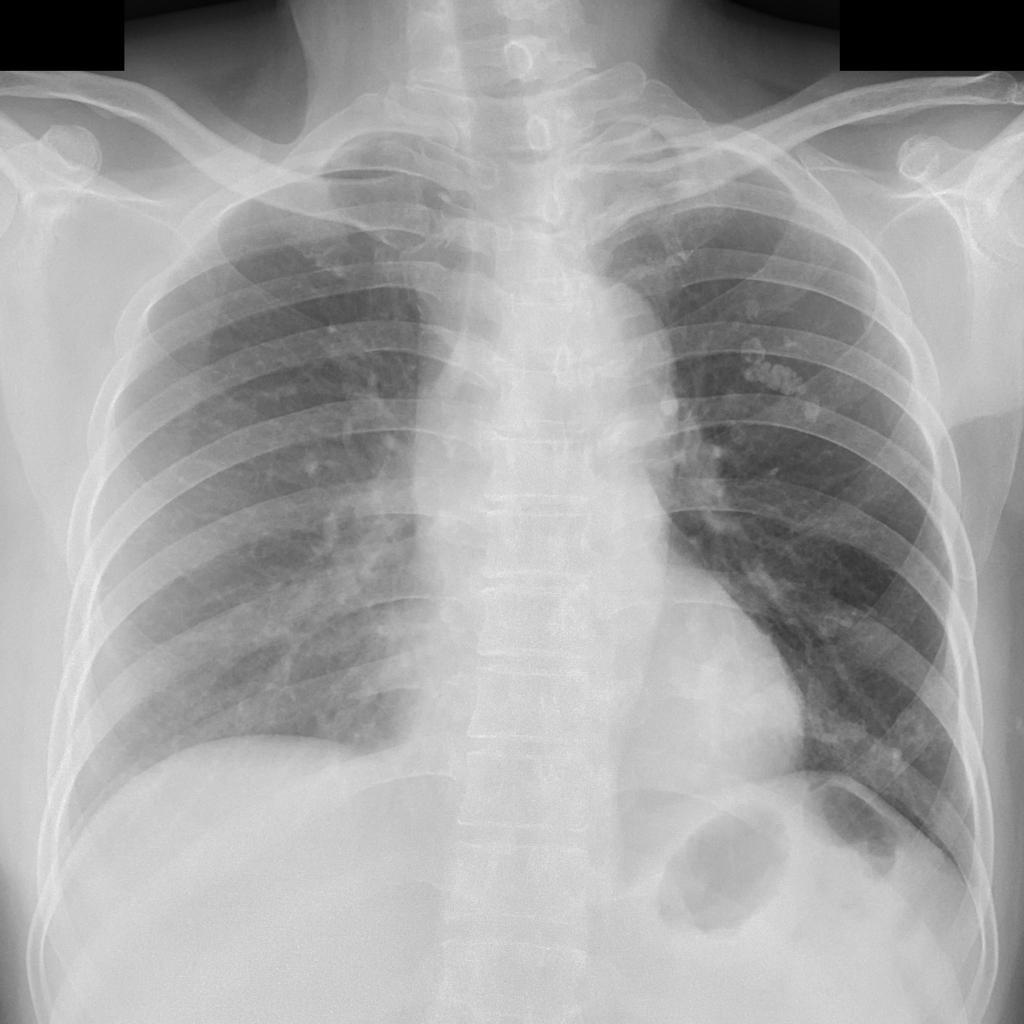Nodule: (739, 296, 766, 321)
